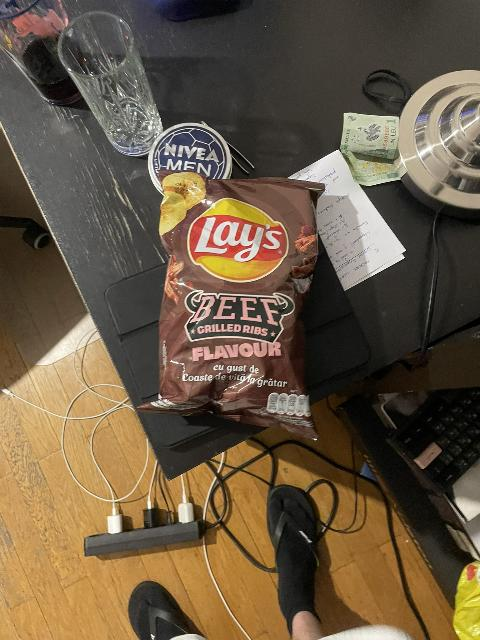Lays Beef Grilled Ribs 125g: (144, 183, 323, 409)
